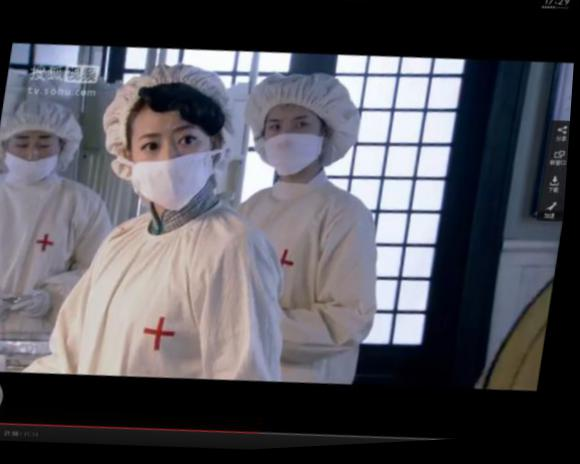OK: (134, 119, 219, 204), (257, 112, 322, 176)
WRONG: (1, 130, 67, 189)
